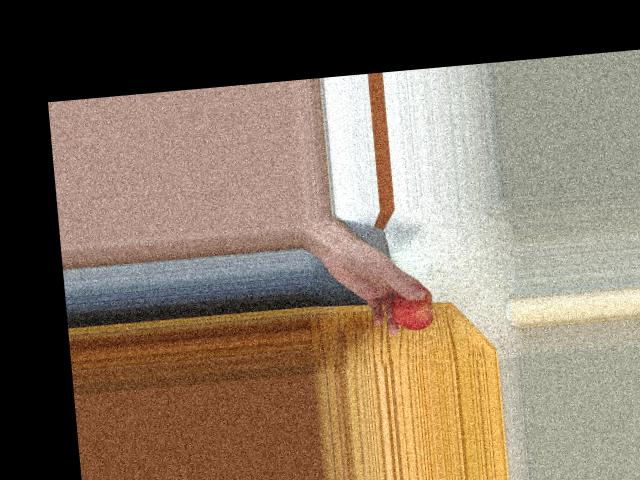apple: (389, 284, 438, 330)
